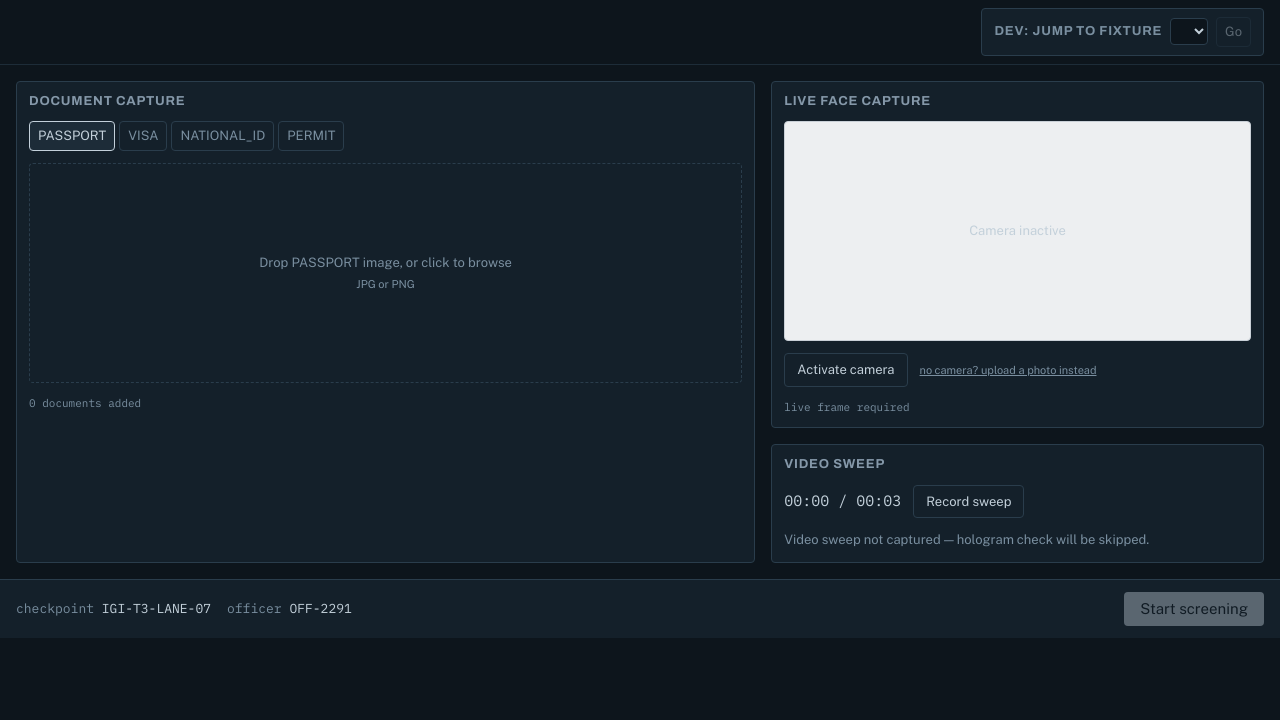
Test: CaptureScreen › shows a technical error line, not a crash, when camera permission is denied
The image size is (1280, 720).
Click the button "Activate camera": (846, 370) left=784, top=353, right=908, bottom=387
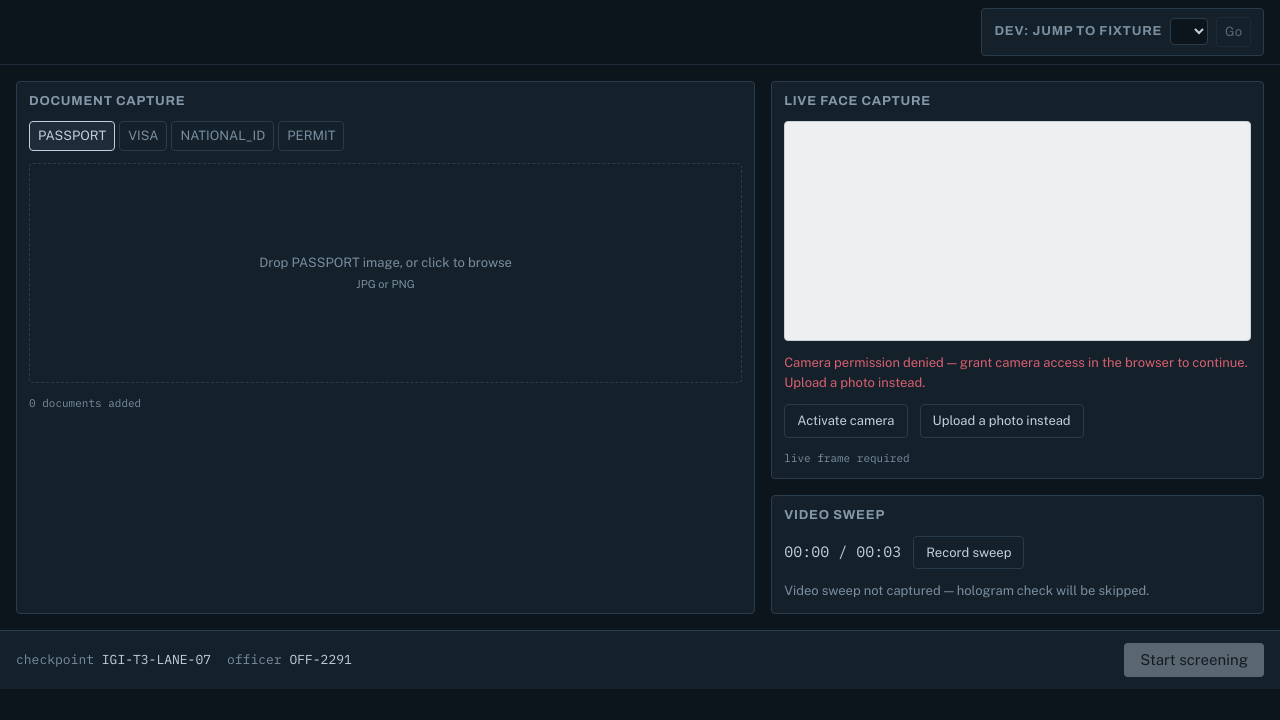
expect the button "Activate camera" is shown: met, box left=784, top=404, right=908, bottom=438
expect the message is shown: met, box left=784, top=353, right=1251, bottom=392
expect the message shows "Camera permission denied": met, box left=784, top=355, right=1248, bottom=390
